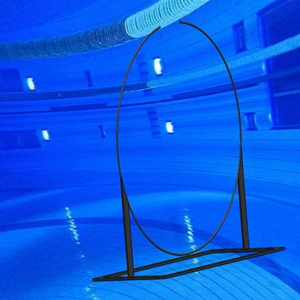circle: (92, 19, 287, 282)
